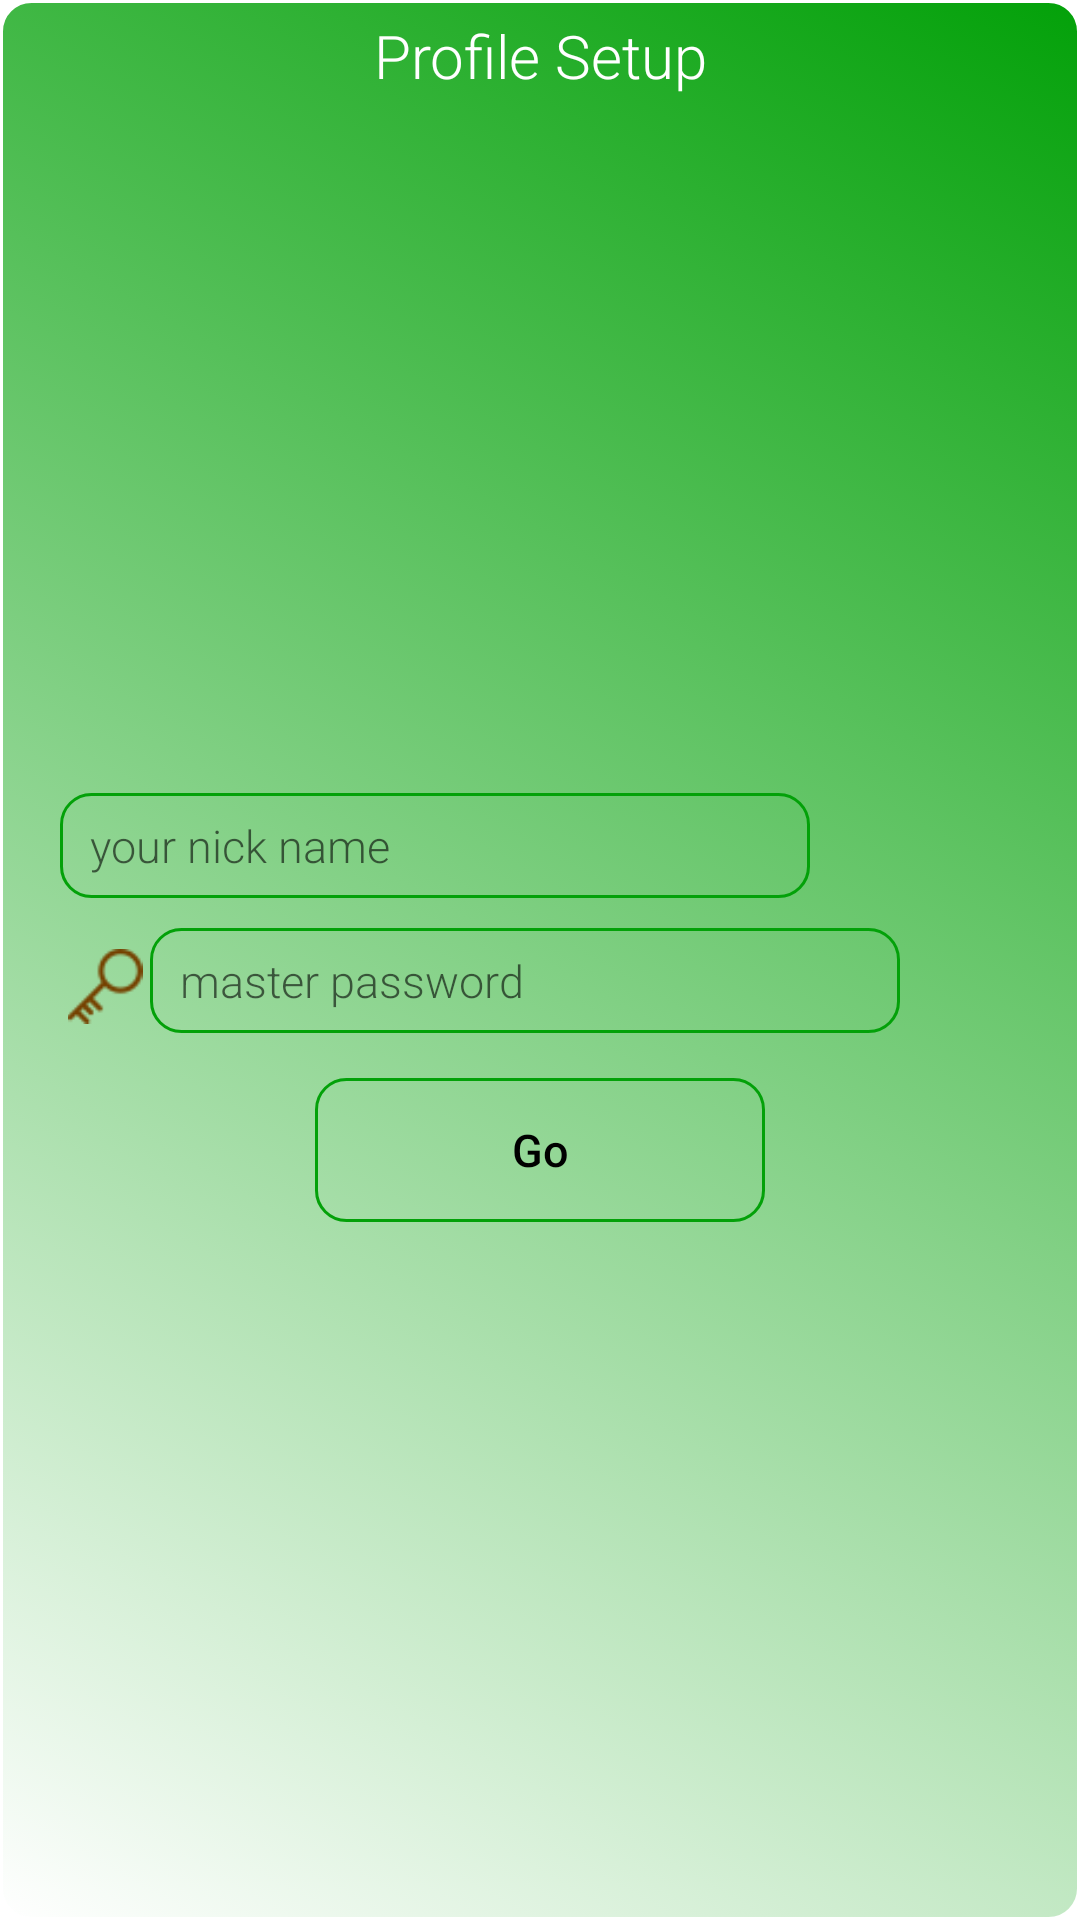

Where to tap for icons on this 1080x1920 app screen, as [x,y]:
key: [105,986]
